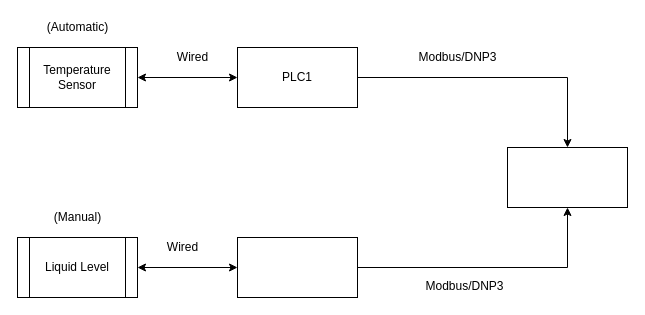
Some shapes in this 645 by 315 pixel diagram are drawn without their labels. Each missing label, with the centre of its shape:
HMI: (x=567, y=177)
PLC2: (x=297, y=267)
